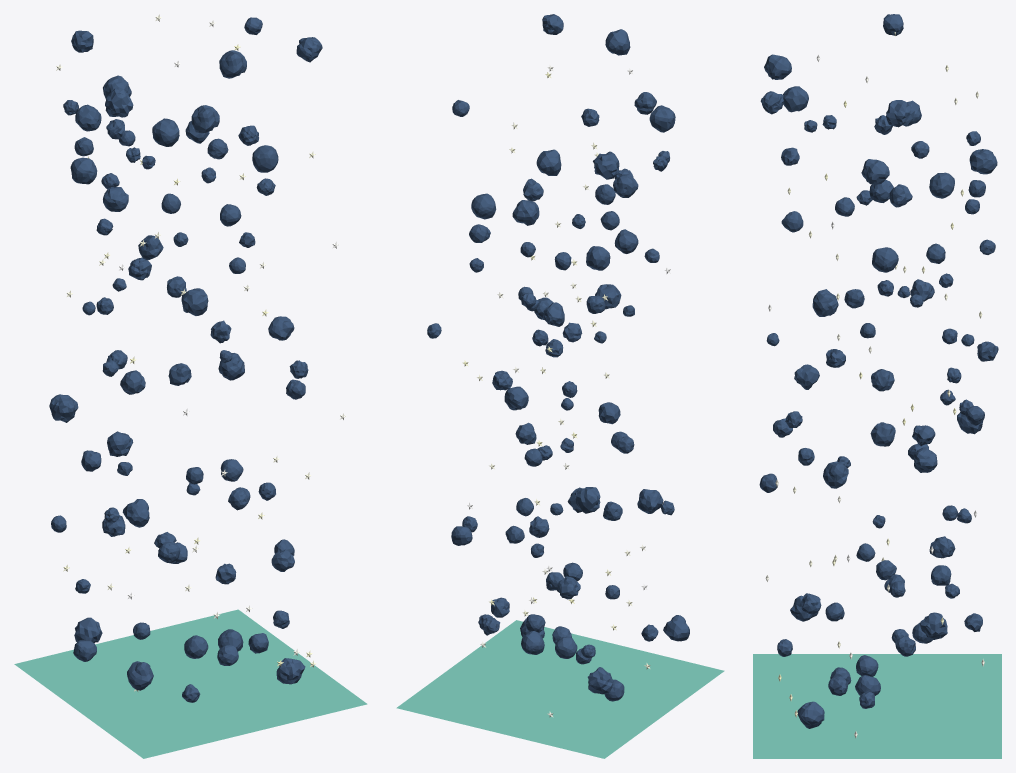
3 views of the same model, side by side, from view 1: azimuth 30°, elevation 25°; view 2: azimuth 150°, elevation 25°; view 3: azimuth 270°, elevation 25° (orthographic). The views are drawn at different scales.
Parts seen in each view (by area): view 1: Plane, Icosphere.024, Icosphere.051, Icosphere.057, Icosphere.008, Icosphere.015, Icosphere.043, Icosphere.072, Icosphere.066, Icosphere.048; view 2: Plane, Icosphere.051, Icosphere.052; view 3: Plane, Icosphere.051, Icosphere.047, Icosphere.052, Icosphere.003, Icosphere.024, Icosphere.043, Icosphere.066, Icosphere.008, Icosphere.037, Icosphere.015, Icosphere.048 (+5 smaller).
Part boxes in pixels (bbox=[...]): Plane: bbox=[14, 609, 367, 758]; Icosphere.024: bbox=[191, 105, 219, 133]; Icosphere.051: bbox=[105, 88, 133, 117]; Icosphere.057: bbox=[49, 394, 78, 422]; Icosphere.008: bbox=[219, 50, 246, 78]; Icosphere.015: bbox=[152, 118, 179, 146]; Icosphere.043: bbox=[181, 288, 208, 315]; Icosphere.072: bbox=[127, 661, 153, 690]; Icosphere.066: bbox=[252, 145, 278, 172]; Icosphere.048: bbox=[70, 157, 97, 184]; Plane: bbox=[396, 620, 724, 758]; Icosphere.051: bbox=[593, 151, 619, 179]; Icosphere.052: bbox=[587, 667, 613, 694]; Plane: bbox=[753, 654, 1001, 758]; Icosphere.051: bbox=[886, 100, 914, 127]; Icosphere.047: bbox=[969, 149, 997, 174]; Icosphere.052: bbox=[919, 612, 947, 639]; Icosphere.003: bbox=[797, 701, 824, 728]; Icosphere.024: bbox=[861, 159, 889, 184]; Icosphere.043: bbox=[812, 289, 838, 316]; Icosphere.066: bbox=[872, 247, 898, 272]; Icosphere.008: bbox=[764, 54, 791, 79]; Icosphere.037: bbox=[823, 461, 848, 488]; Icosphere.015: bbox=[782, 86, 808, 112]; Icosphere.048: bbox=[929, 172, 954, 198].
Size of the model in its own units: 28 by 80.33 by 28.
